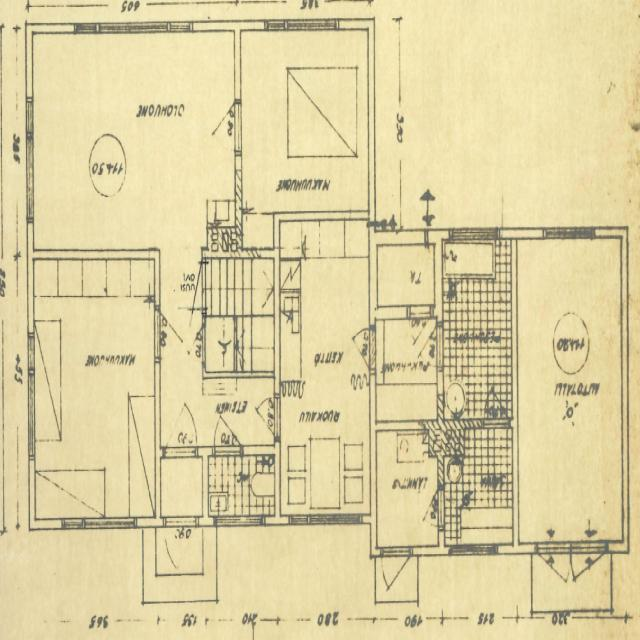door: (572, 542, 608, 616), (536, 542, 572, 616), (164, 517, 196, 584), (381, 542, 413, 607), (165, 391, 197, 456), (206, 102, 242, 153), (214, 397, 243, 456), (155, 311, 188, 357), (174, 262, 206, 309), (484, 375, 510, 431), (344, 329, 376, 370), (250, 396, 280, 439), (412, 324, 442, 366), (177, 322, 206, 364), (410, 305, 430, 357), (416, 491, 442, 526)
